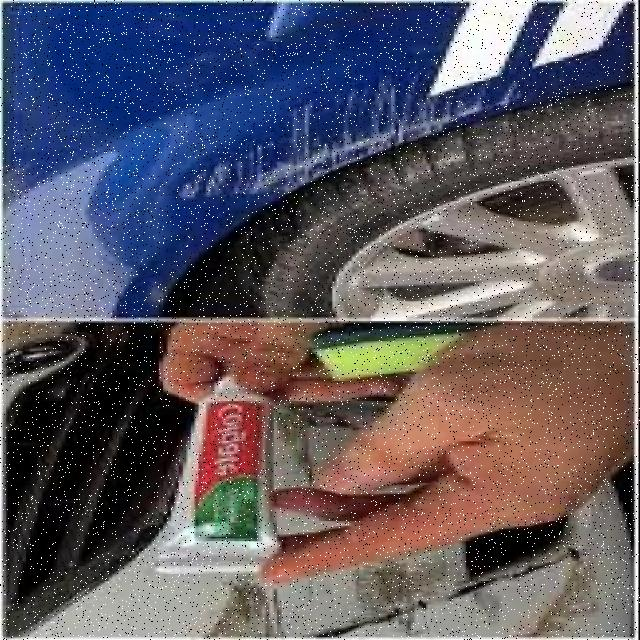damage: (173, 76, 534, 200)
